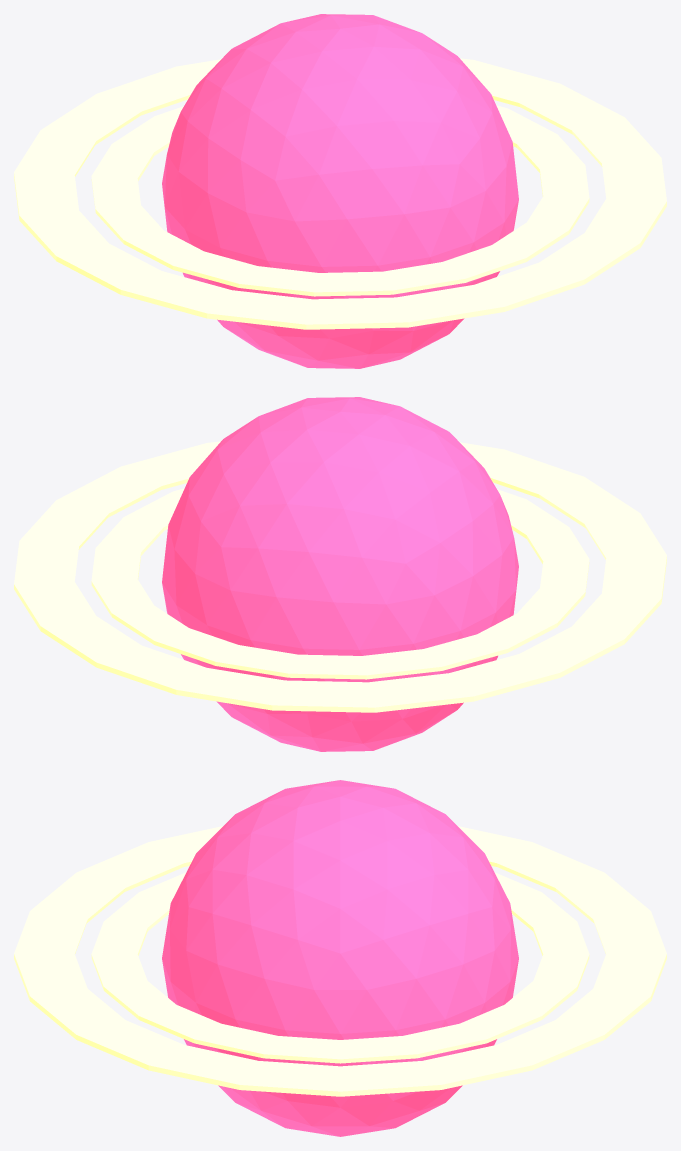
The model's file is planet3.fbx.
The picture shows the model from 3 angles, top to bottom: view 1: azimuth 30°, elevation 25°; view 2: azimuth 150°, elevation 25°; view 3: azimuth 270°, elevation 25°; orthographic projection.
Visible parts, largest first — view 1: Icosphere.010; view 2: Icosphere.010; view 3: Icosphere.010.
Part boxes in pixels (x1,y1,x2,y2): Icosphere.010: (14,14,666,368); Icosphere.010: (14,397,666,751); Icosphere.010: (14,780,666,1136).
Size of the model in its own units: 366 by 200 by 366.
